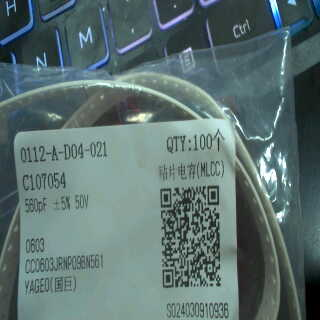560pF: (20, 193, 50, 217)
